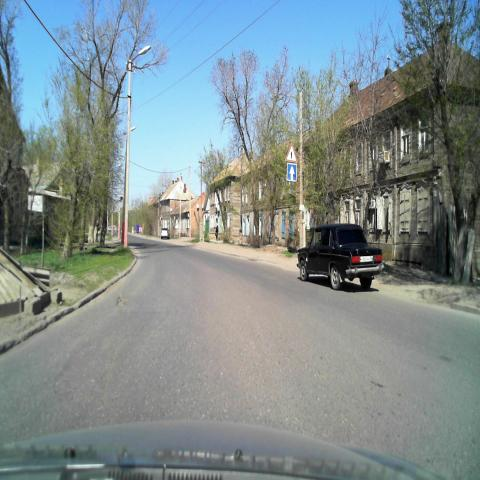2_3_3: (286, 143, 297, 162)
5_5: (286, 163, 297, 181)
